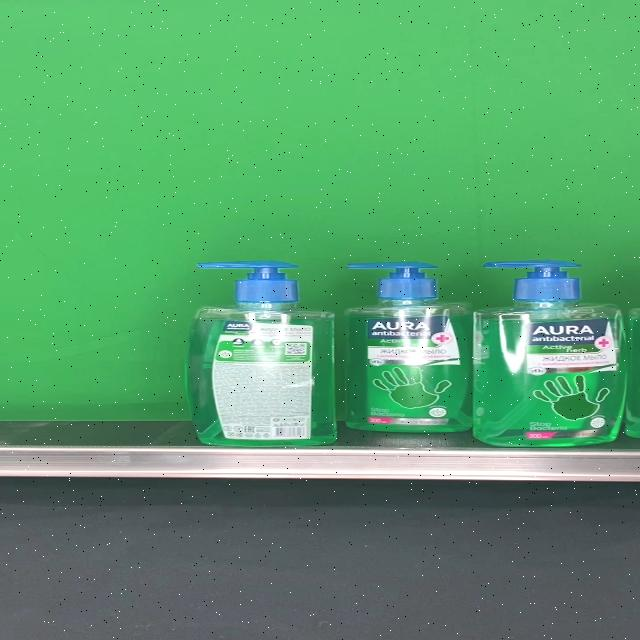Bottle: (473, 259, 627, 446), (188, 260, 335, 447), (342, 261, 473, 432)
Cap: (197, 260, 299, 302), (482, 260, 582, 302), (345, 261, 440, 299)
